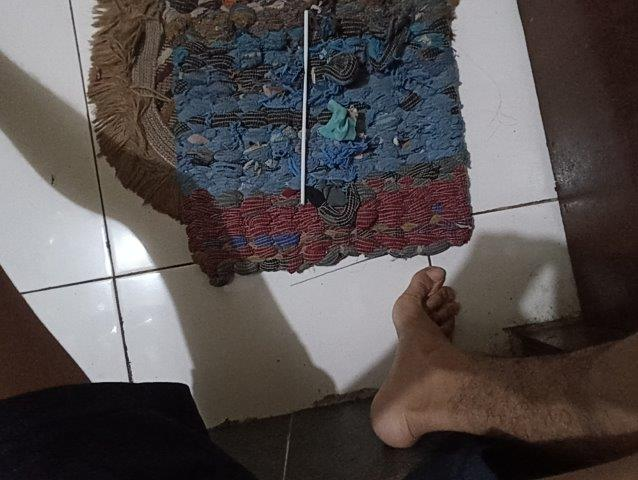sedotan: (301, 13, 308, 203)
